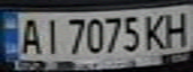0: (84, 15, 106, 55)
5: (121, 12, 145, 53)
7: (63, 15, 84, 55), (103, 14, 124, 54)
A: (15, 16, 45, 55)
H: (160, 8, 193, 48)
I: (39, 15, 63, 55)
K: (139, 11, 172, 52)
